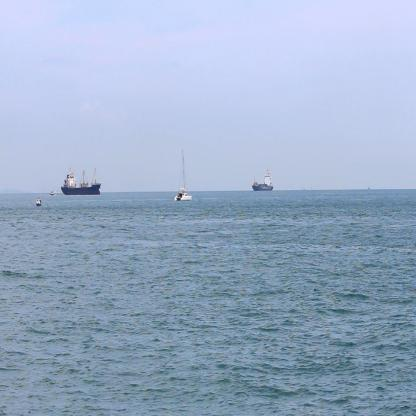Container Ship: (60, 168, 101, 196), (251, 168, 274, 192)
